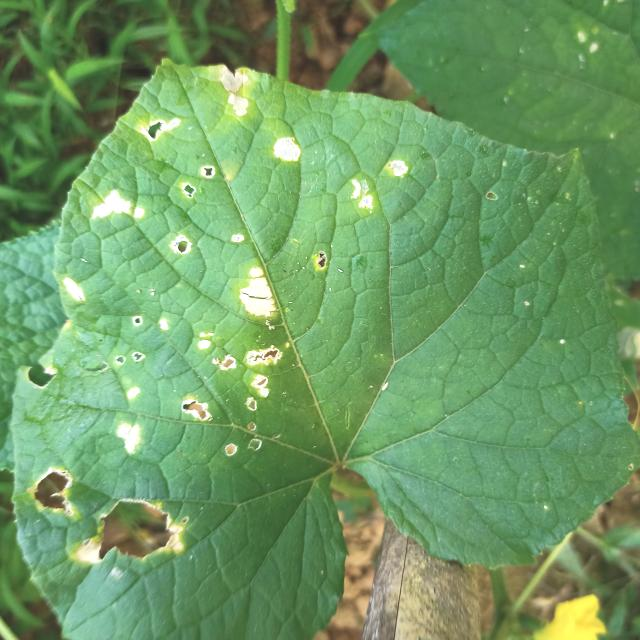disease_cucumber: (174, 329, 289, 461), (74, 496, 193, 574), (341, 158, 410, 212), (30, 464, 77, 529), (88, 181, 150, 227), (235, 263, 279, 326), (106, 413, 146, 470), (216, 63, 256, 120), (174, 165, 220, 201), (124, 113, 180, 142), (61, 265, 93, 311), (270, 131, 308, 163), (168, 229, 196, 260)
